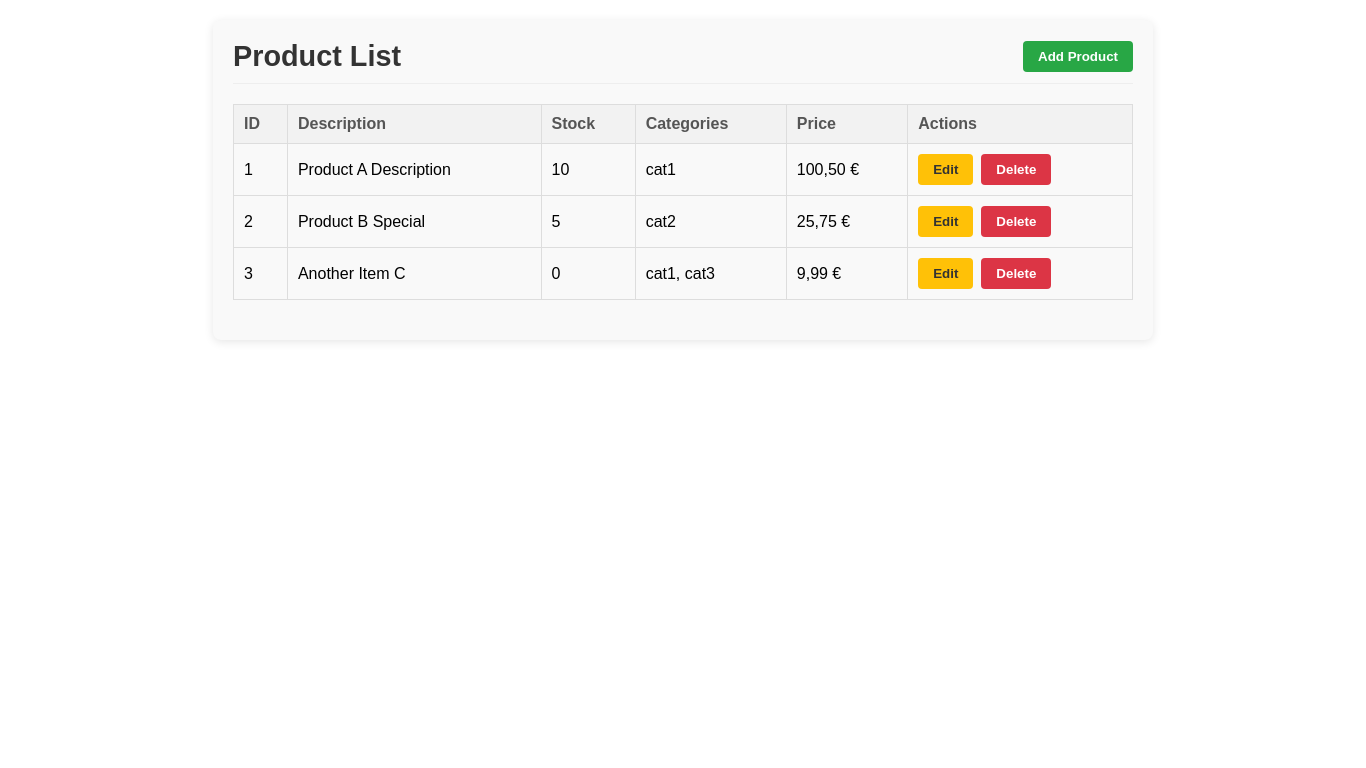
Test: ProductList Component (Connected to Redux) › ProductList Component - Edit Product › should open the modal with "Edit Product" title and pre-fill form when an "Edit" button is clicked
The width and height of the screenshot is (1366, 768).
Click the button "Edit" in the row of "Product A Description".
click(946, 170)  # box x1=918 y1=154 x2=973 y2=185
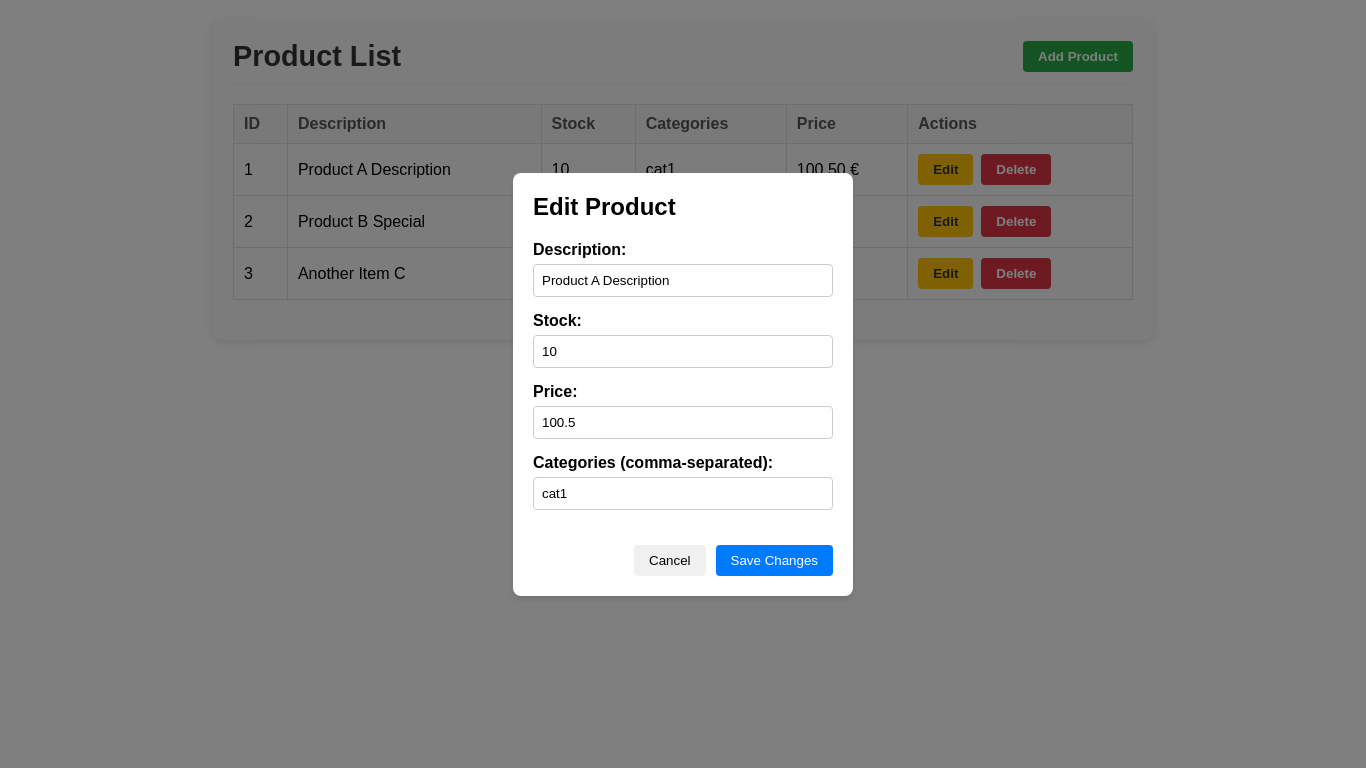
Check: the dialog is shown, box x1=513 y1=172 x2=853 y2=596
Check: the heading "Edit Product" is shown, box x1=533 y1=192 x2=676 y2=220
Check: the field labelled "Description:" holds "Product A Description", box x1=533 y1=264 x2=833 y2=296
